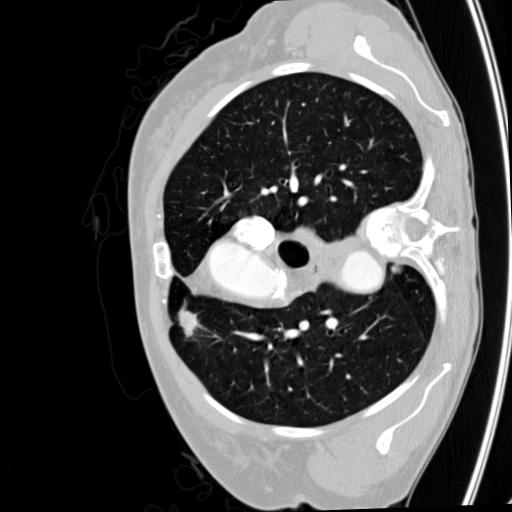nodule: (174, 307, 202, 335)
